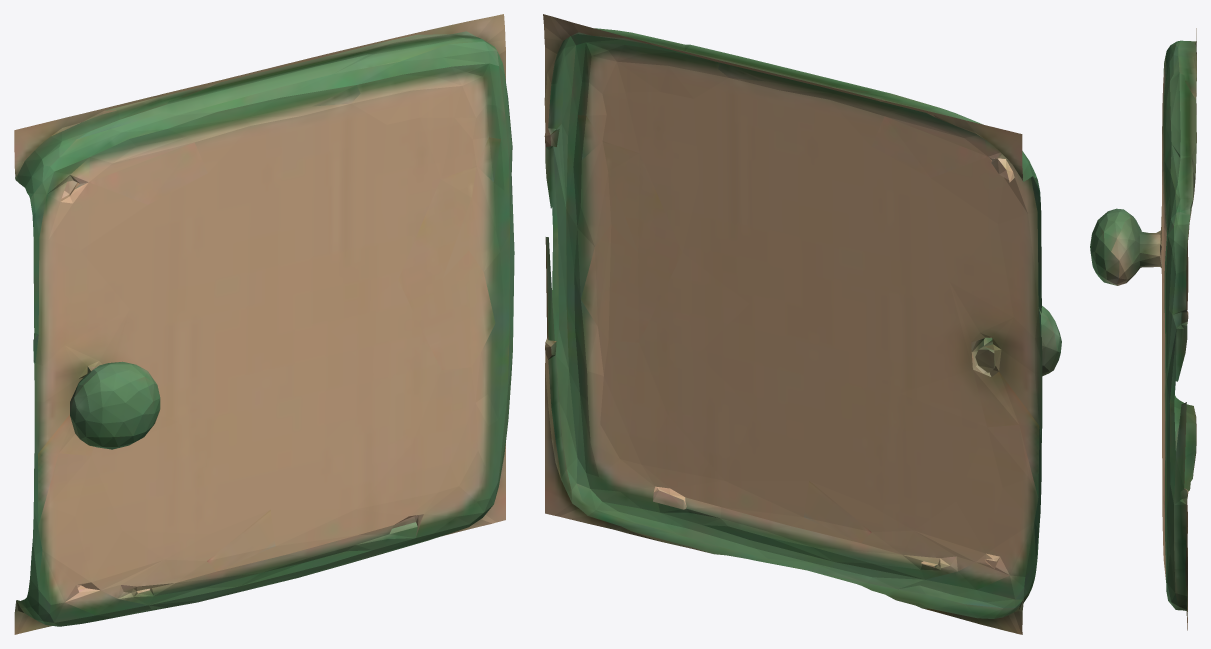
The model's file is door_right.glb.
3 views of the same model, side by side, from view 1: azimuth 30°, elevation 25°; view 2: azimuth 150°, elevation 25°; view 3: azimuth 270°, elevation 25° (orthographic). The views are drawn at different scales.
Parts seen in each view (by area): view 1: source_surface_0; view 2: source_surface_0; view 3: source_surface_0.
Boxes of the visible parts, x1=… form: source_surface_0: x1=14, y1=14, x2=514, y2=634; source_surface_0: x1=543, y1=14, x2=1061, y2=634; source_surface_0: x1=1090, y1=28, x2=1196, y2=630.
Bounding box in the file's own units: 0.2521 × 0.25 × 0.0574.
Materials: 1 (1 with a texture image).
